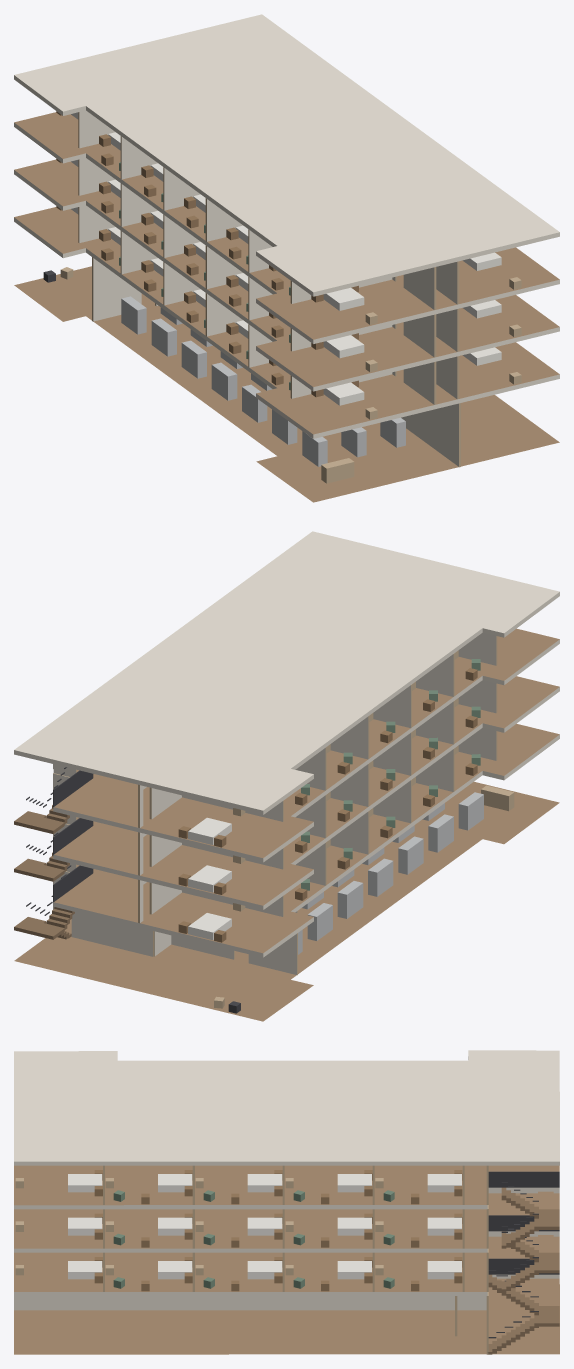
The model's file is interior.glb.
3 views of the same model, one above another, from view 1: azimuth 30°, elevation 25°; view 2: azimuth 150°, elevation 25°; view 3: azimuth 270°, elevation 25° (orthographic). The views are drawn at different scales.
Visible parts, largest first — view 1: slabs, partitions, coarse-s0, coarse-s3, coarse-s1, coarse-s2; view 2: slabs, partitions, coarse-s0, stair, coarse-s3, coarse-s1, coarse-s2; view 3: slabs, partitions, stair, coarse-s1, coarse-s3, coarse-s2.
Boxes of the visible parts, x1,y1,x2,y2 form: slabs: (14, 14, 559, 502); partitions: (78, 110, 460, 467); coarse-s0: (43, 267, 405, 483); coarse-s3: (56, 111, 521, 324); coarse-s1: (56, 206, 521, 419); coarse-s2: (56, 159, 521, 372); slabs: (14, 531, 559, 1021); partitions: (53, 632, 497, 975); coarse-s0: (214, 785, 514, 1013); stair: (14, 767, 93, 939); coarse-s3: (178, 650, 480, 847); coarse-s1: (178, 745, 480, 942); coarse-s2: (178, 698, 480, 894); slabs: (14, 1050, 559, 1354); partitions: (14, 1165, 559, 1354); stair: (487, 1171, 559, 1354); coarse-s1: (15, 1257, 462, 1291); coarse-s3: (15, 1170, 462, 1204); coarse-s2: (15, 1213, 462, 1247).
Size of the model in its own units: 15.28 by 12.34 by 31.63.
